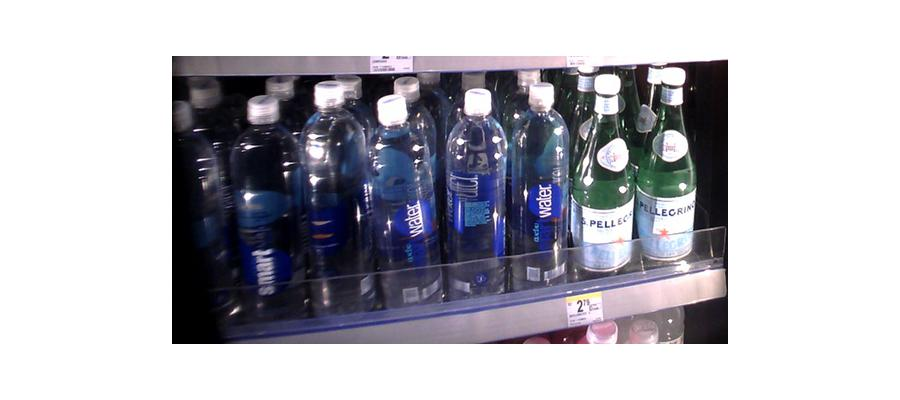bottle: (298, 85, 369, 319), (368, 86, 439, 309), (232, 94, 296, 325), (444, 84, 505, 299), (509, 80, 570, 291), (573, 77, 636, 277), (639, 71, 695, 268)
